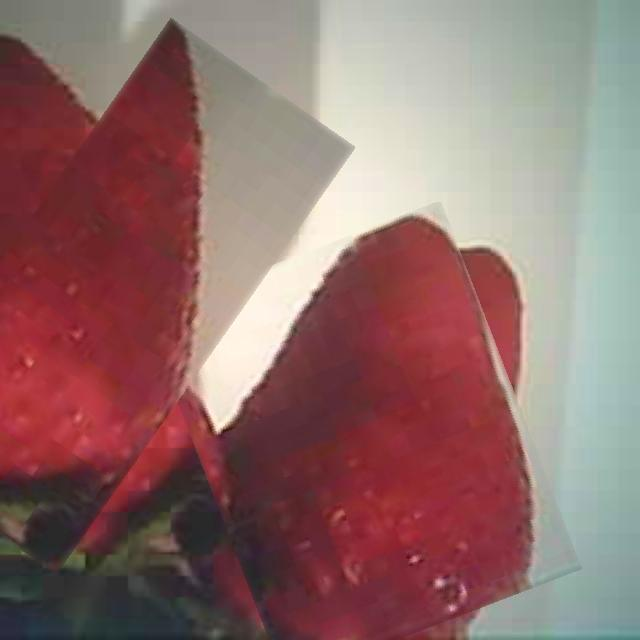strawberry: (0, 27, 291, 566), (174, 224, 551, 640)
